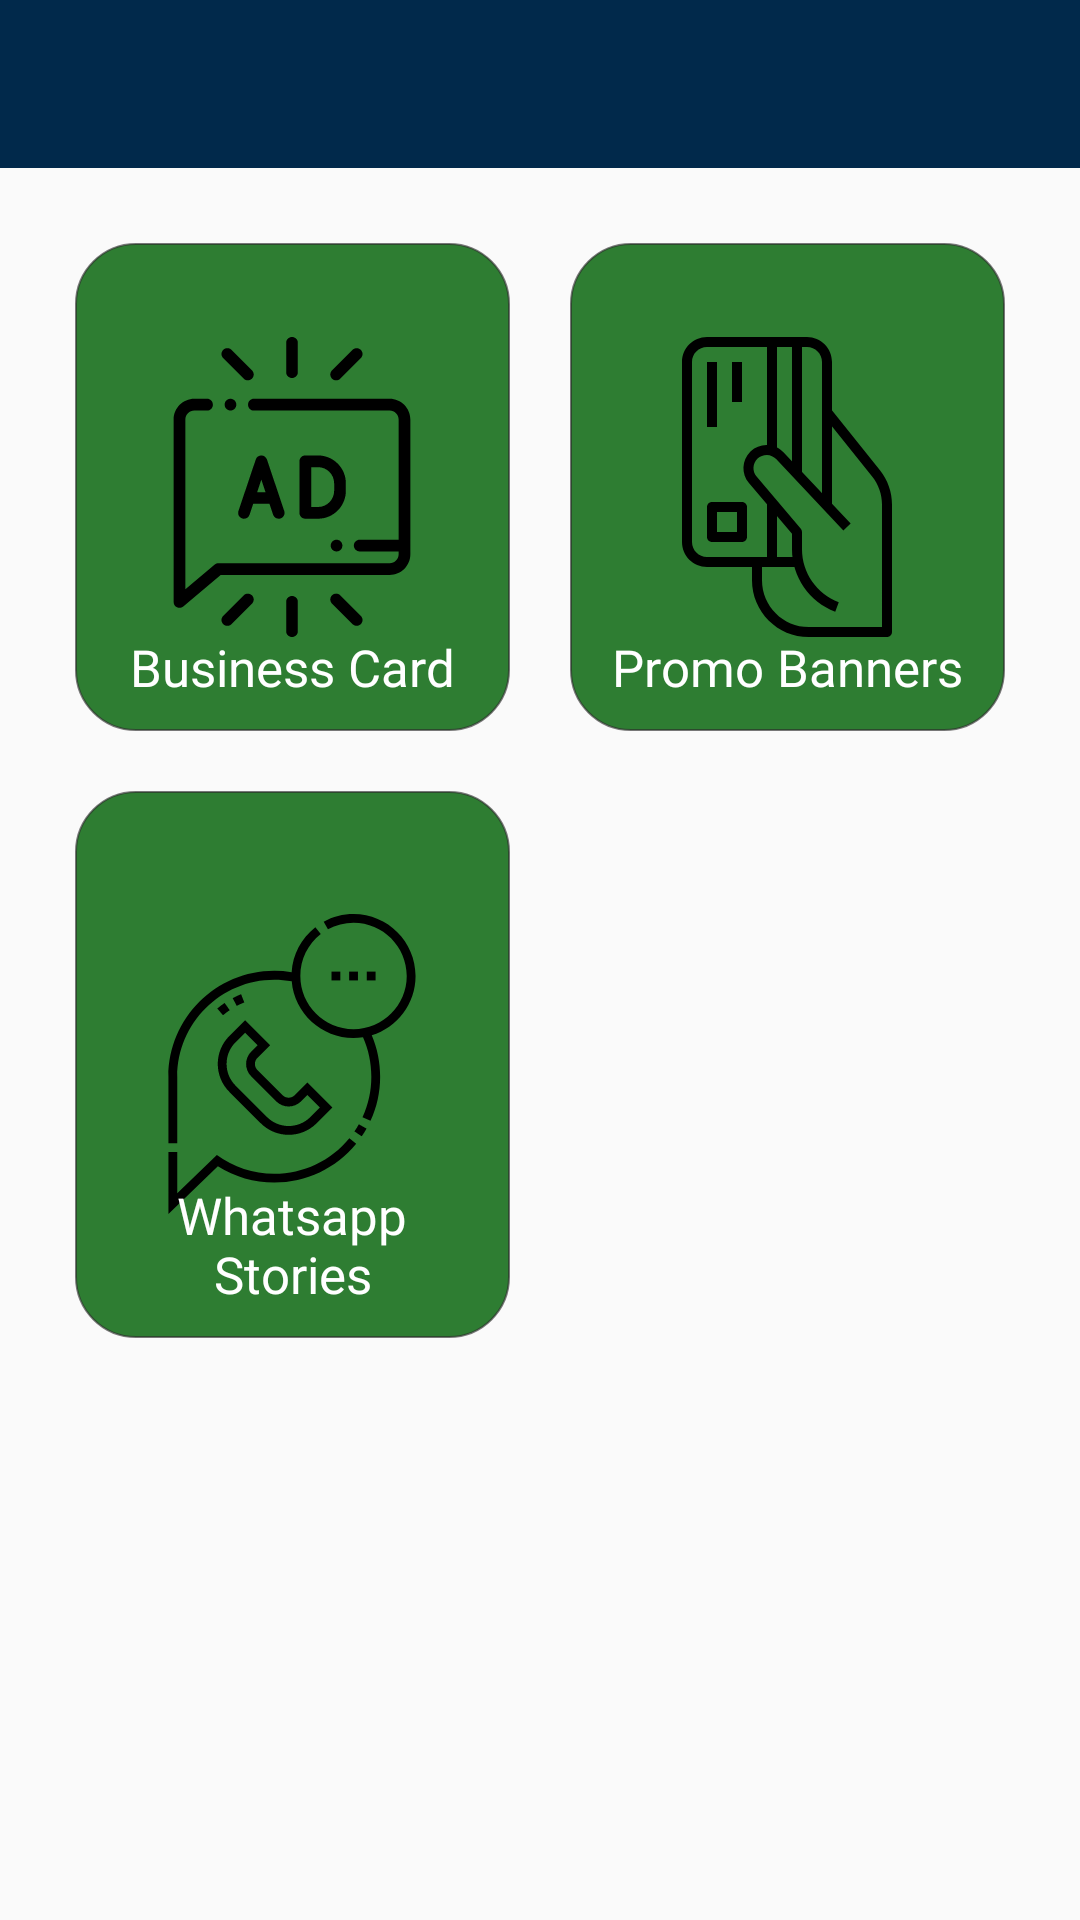

Locate icon controls on the screen. Image size 1080×1920, boxes as (x1, y1, x2, y2).
advertisement: (173, 337, 411, 637)
card: (682, 337, 892, 637)
